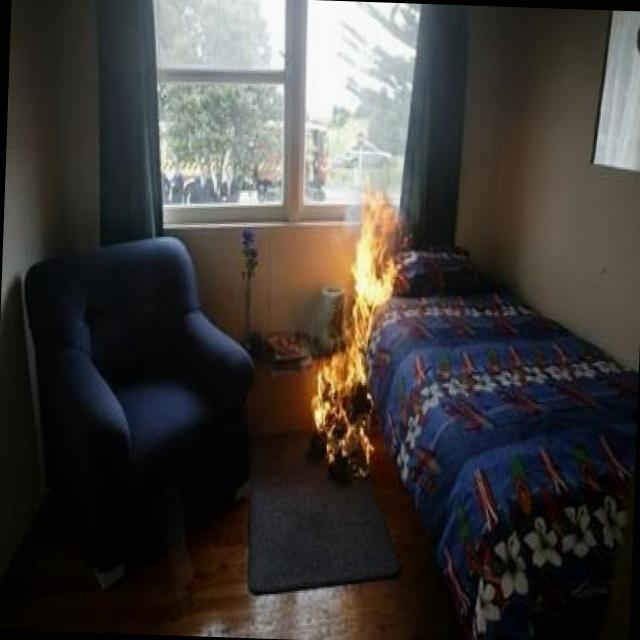fire: (298, 161, 421, 486)
